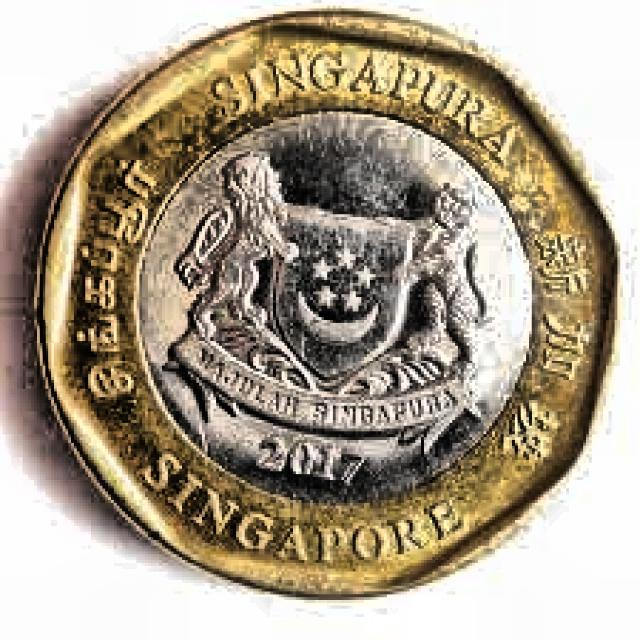coin: (40, 9, 614, 591)
